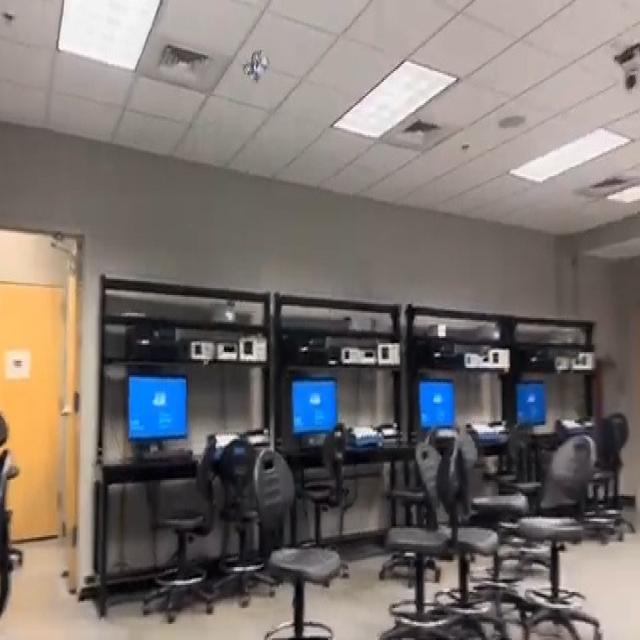drone: (236, 30, 272, 91)
